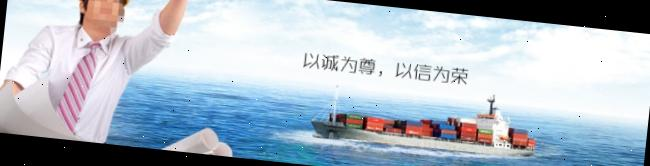helmet: (74, 0, 136, 8)
no_wear: (31, 27, 134, 145)
